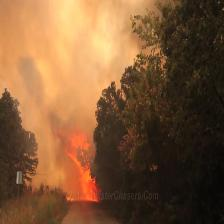fire: (52, 123, 106, 216)
smoke: (0, 0, 171, 125)
